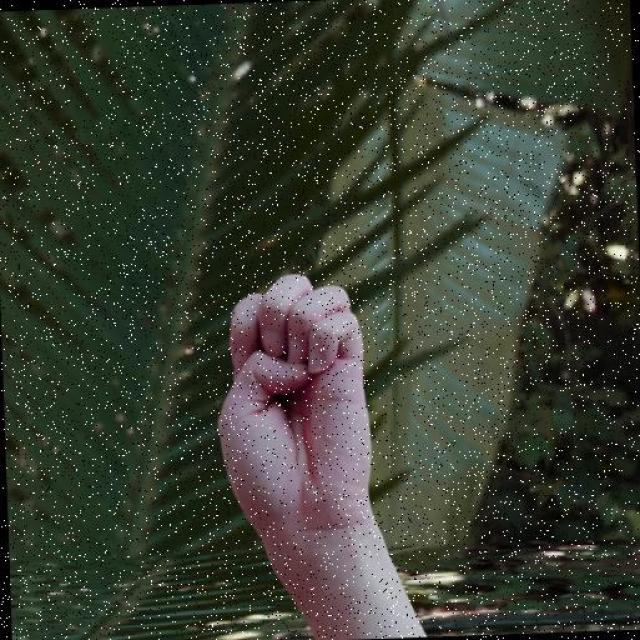E: (206, 261, 384, 534)
